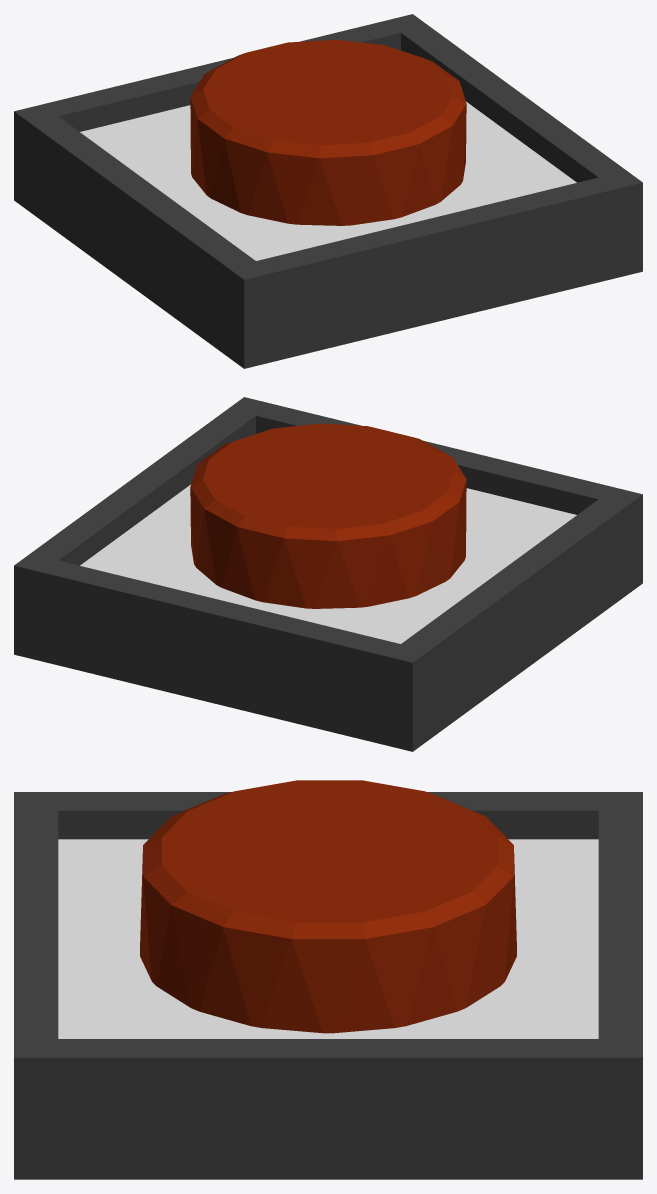
Rendered from ButtonType1.fbx.
3 renders of one model, top to bottom at view 1: azimuth 30°, elevation 25°; view 2: azimuth 150°, elevation 25°; view 3: azimuth 270°, elevation 25°, orthographic. The views are drawn at different scales.
Visible parts, largest first — view 1: Frame, Button, Back; view 2: Frame, Button, Back; view 3: Frame, Button, Back.
Part boxes in pixels (x1=…): Frame: x1=14, y1=14, x2=642, y2=368; Button: x1=190, y1=39, x2=466, y2=225; Back: x1=80, y1=101, x2=576, y2=260; Frame: x1=14, y1=397, x2=642, y2=751; Button: x1=190, y1=423, x2=466, y2=608; Back: x1=80, y1=484, x2=576, y2=643; Frame: x1=14, y1=792, x2=642, y2=1179; Button: x1=140, y1=780, x2=516, y2=1033; Back: x1=58, y1=839, x2=598, y2=1038.
Bounding box in the file's own units: 200 × 68.55 × 200.
